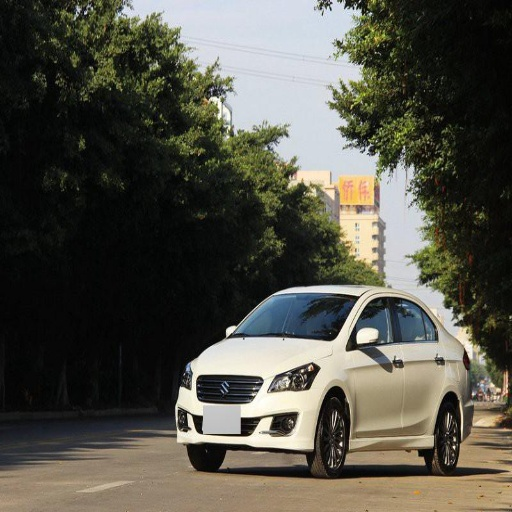front_bumper: (176, 366, 324, 454)
front_glass: (231, 293, 357, 340)
front_left_door: (350, 293, 402, 435)
